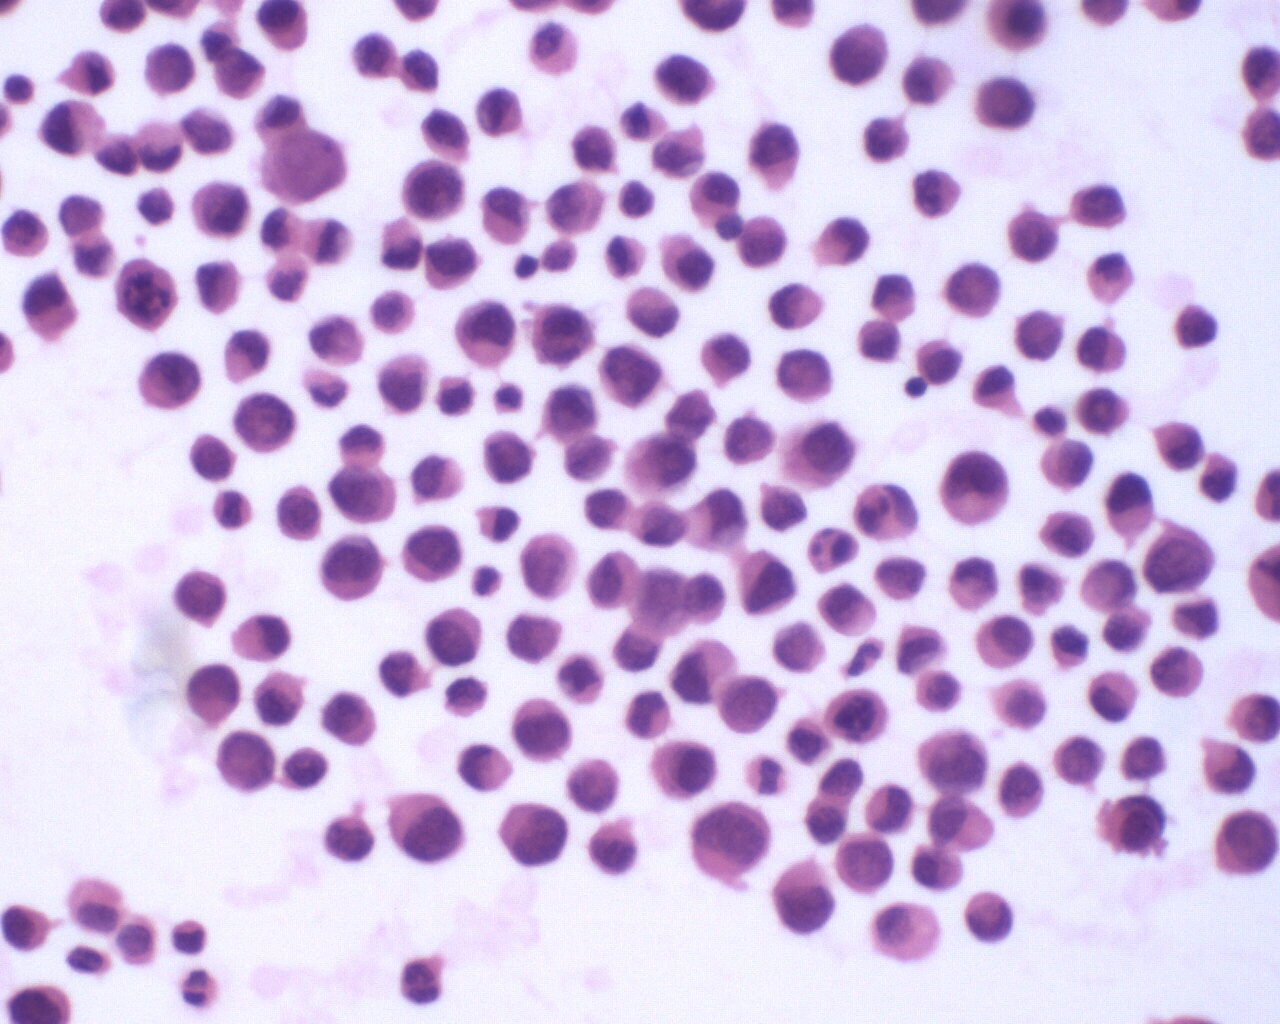ab: (686, 798, 773, 886), (765, 858, 844, 939), (390, 786, 468, 867), (917, 722, 994, 804), (1141, 521, 1226, 595), (496, 798, 571, 871), (787, 423, 865, 489), (400, 155, 470, 226), (1210, 808, 1279, 880), (598, 338, 664, 413), (453, 298, 519, 372), (827, 20, 891, 92), (509, 694, 575, 764), (321, 532, 387, 602), (648, 738, 719, 802), (330, 463, 399, 529), (740, 548, 802, 619), (230, 392, 301, 453), (834, 829, 897, 898), (397, 521, 466, 584), (420, 230, 487, 294), (716, 672, 781, 737), (521, 533, 580, 604), (423, 602, 485, 669), (945, 259, 1006, 326), (216, 727, 277, 795), (136, 350, 204, 411), (771, 349, 838, 410), (189, 180, 254, 240), (653, 49, 721, 107), (1067, 176, 1131, 235), (975, 74, 1037, 134), (965, 886, 1026, 945), (171, 567, 229, 629), (997, 758, 1049, 824), (1146, 644, 1207, 701), (718, 413, 779, 469), (738, 209, 793, 272), (479, 428, 537, 487), (209, 46, 267, 104), (323, 690, 378, 751), (1003, 206, 1058, 267), (565, 757, 621, 818), (1039, 435, 1096, 493), (143, 40, 197, 101), (273, 482, 326, 544), (1039, 506, 1097, 560), (1228, 689, 1280, 749), (320, 811, 377, 865), (1075, 385, 1133, 439), (3, 206, 54, 265), (1057, 734, 1108, 789), (914, 338, 965, 389), (353, 28, 399, 85), (188, 430, 238, 479)
meso: (866, 899, 946, 970), (685, 168, 743, 223)
neutro: (178, 967, 223, 1008)
